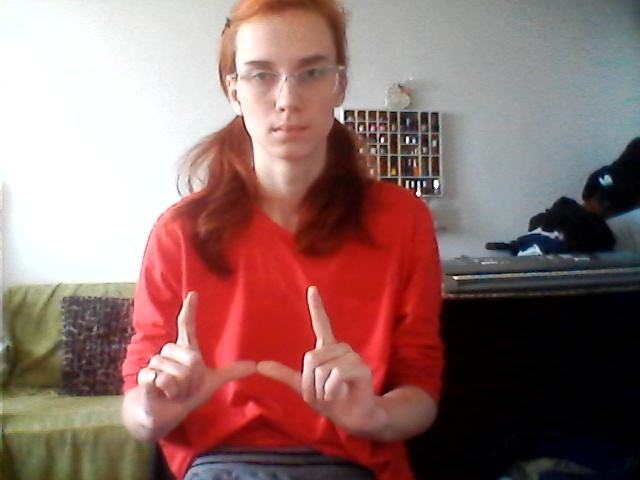u: (125, 284, 392, 434)
